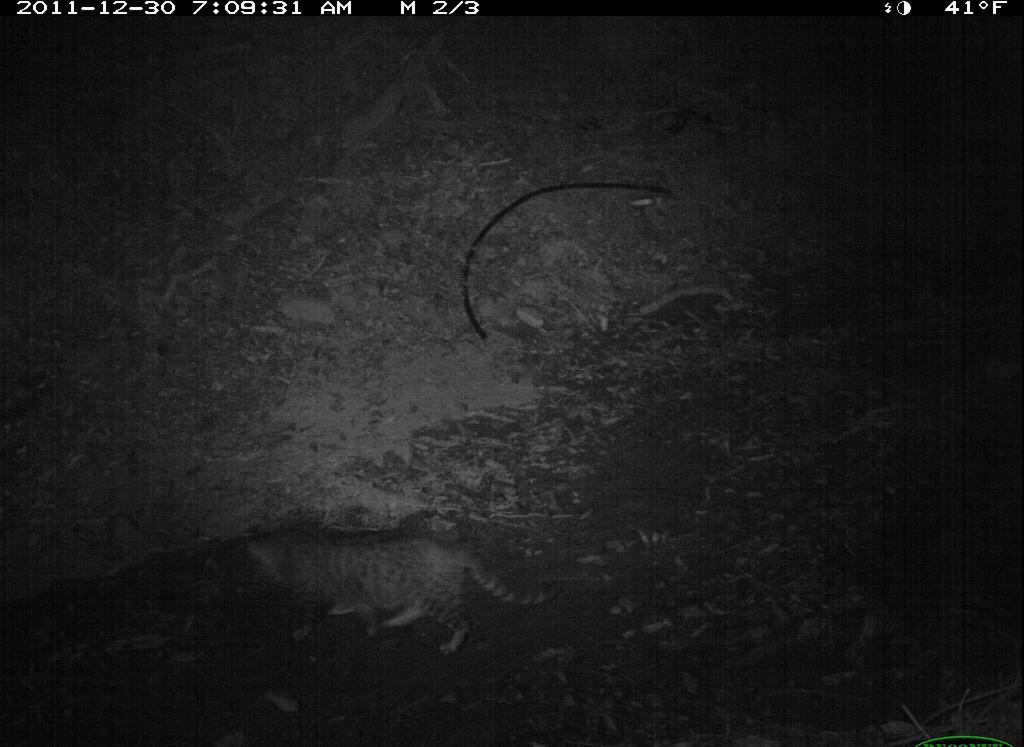cat: (233, 518, 559, 664)
